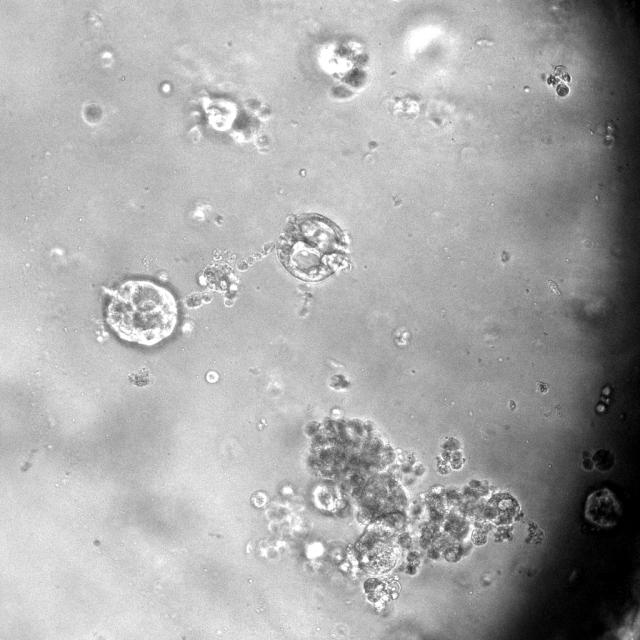organoid: (246, 406, 527, 616), (184, 212, 350, 307), (187, 89, 270, 150), (105, 280, 178, 346), (313, 37, 369, 99), (585, 487, 621, 529), (436, 436, 464, 475), (547, 65, 571, 97), (581, 449, 614, 472), (594, 385, 612, 415), (82, 102, 103, 125), (525, 520, 544, 544), (129, 367, 151, 386), (329, 373, 350, 391), (204, 369, 219, 383), (469, 513, 469, 514)
